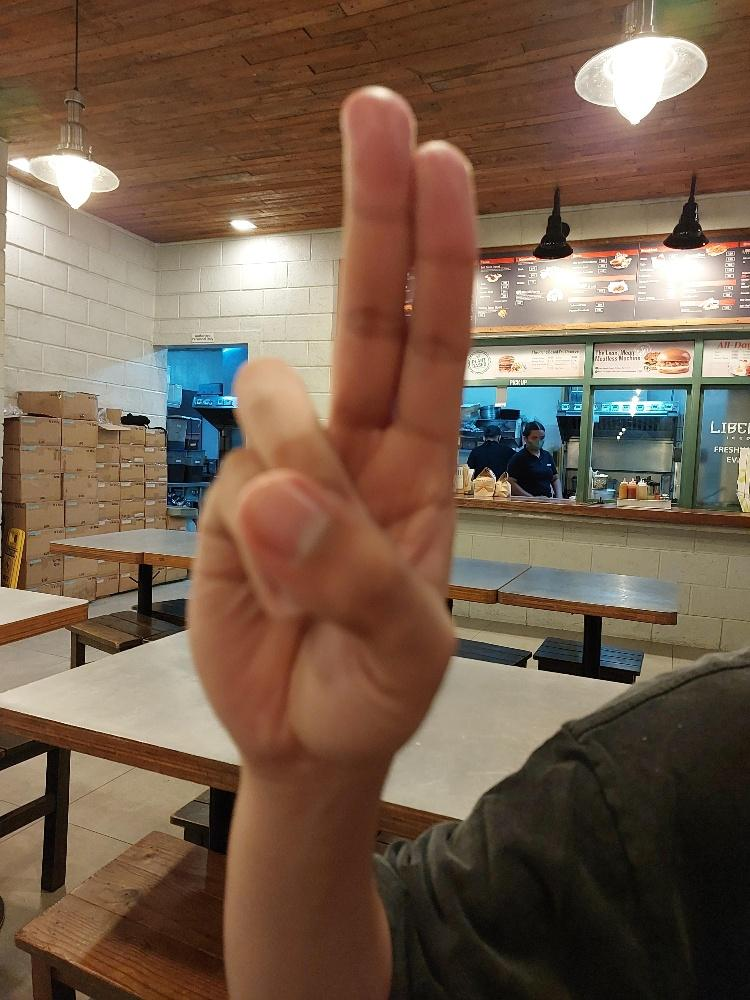u: (180, 81, 480, 764)
